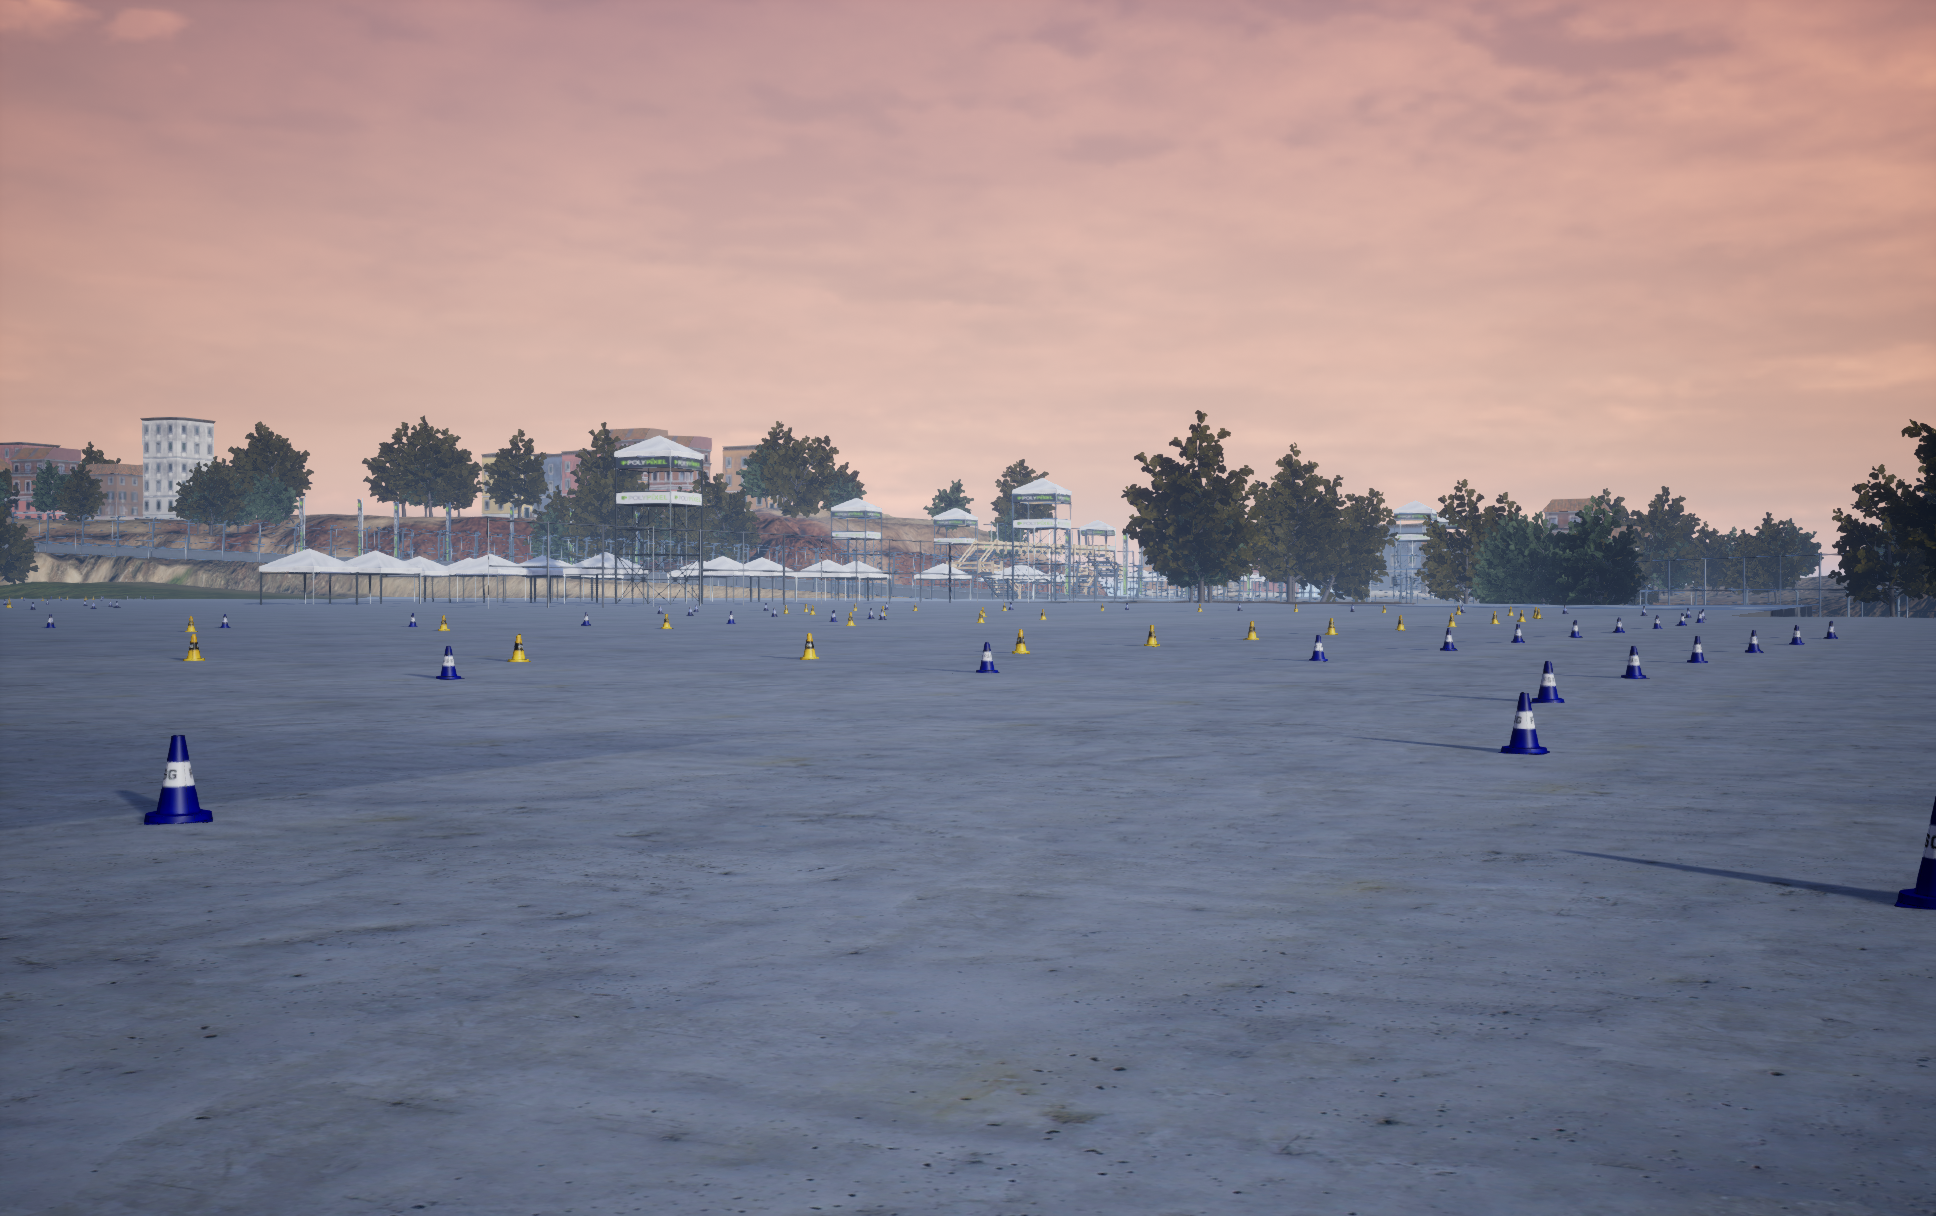blue: (507, 635, 530, 661), (184, 635, 205, 660), (800, 633, 818, 658), (1011, 629, 1030, 653), (1145, 625, 1159, 646), (1243, 621, 1258, 639)
yellow: (144, 735, 212, 824), (1894, 796, 1935, 909), (1498, 692, 1549, 754), (1530, 661, 1563, 702), (436, 646, 464, 679), (1621, 646, 1649, 678), (976, 642, 999, 672), (1687, 636, 1708, 663), (1308, 635, 1327, 661), (1745, 630, 1764, 651), (1440, 628, 1457, 650), (1789, 625, 1804, 644), (1512, 623, 1524, 642)
